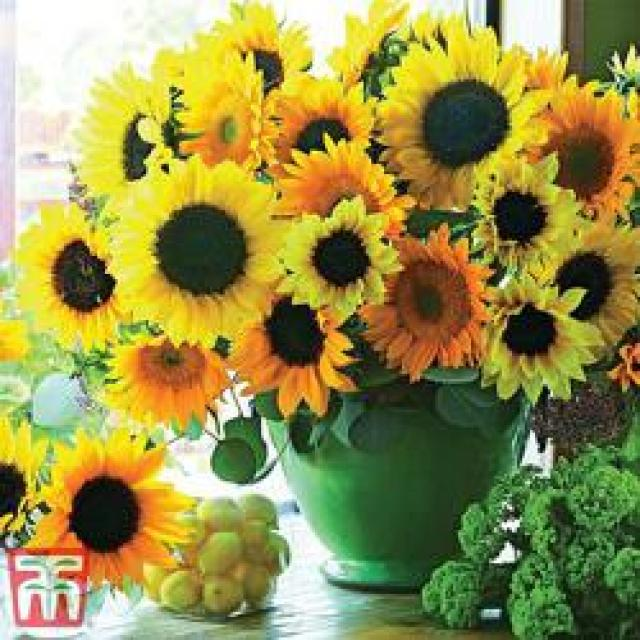sunflower: (96, 156, 288, 351), (374, 18, 553, 210), (25, 433, 198, 594), (351, 211, 499, 393), (15, 191, 138, 357), (465, 272, 608, 409), (225, 284, 361, 420), (522, 72, 640, 218), (276, 195, 404, 328), (169, 30, 271, 180), (61, 63, 169, 204), (470, 144, 588, 272), (101, 332, 232, 446), (527, 222, 640, 350), (273, 125, 416, 223), (257, 63, 380, 175), (205, 2, 317, 88)
